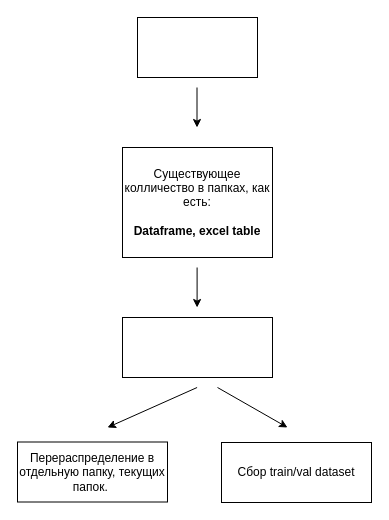
Image size: 389x520. Some labels were removed from this diagram. Each missing label, with the box of its shape:
Folders, amoutn: (136, 16, 258, 78)
Пересчет Dataframe по лимиту кол-ва на класс: (122, 316, 272, 378)
